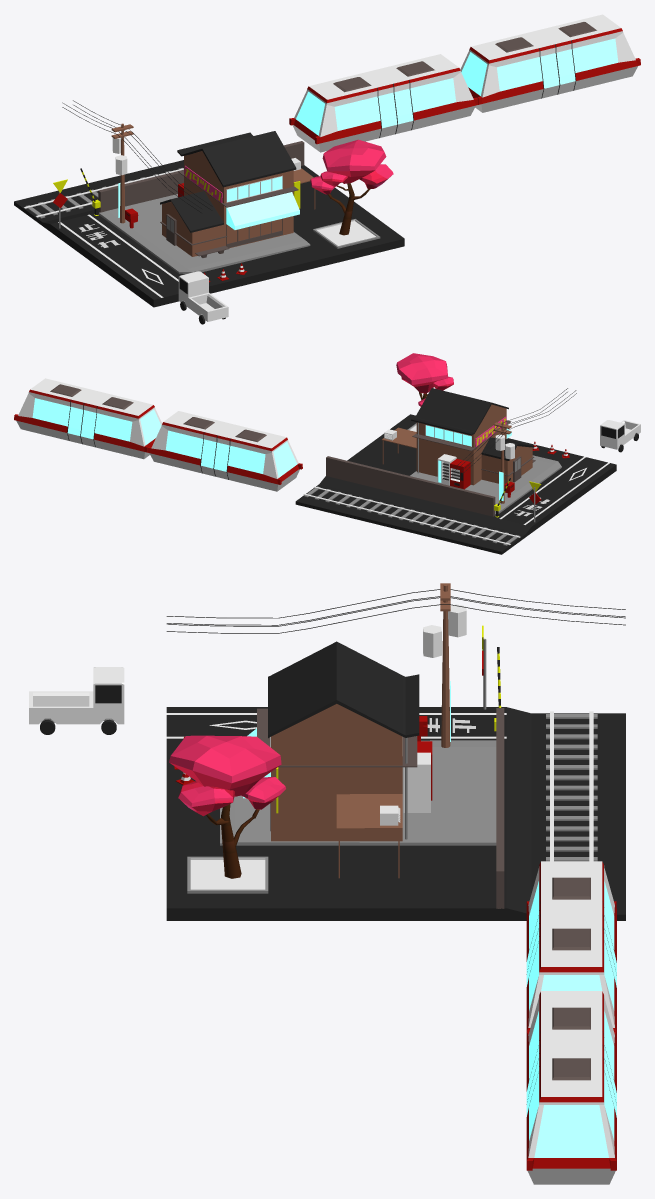
File: paysage.gltf
The picture shows the model from 3 angles, top to bottom: view 1: azimuth 30°, elevation 25°; view 2: azimuth 150°, elevation 25°; view 3: azimuth 270°, elevation 25°; orthographic projection. The views are drawn at different scales.
Parts seen in each view (by area): view 1: wagon, road, house, trottoir.001, fleats, wall, car, earth, cable, roadstrip, three, rebord.002 (+2 smaller); view 2: wagon, road, house, wall, trottoir.001, fleats, repeatRails, car, rails, machineBoisson2, cable, roadstrip (+3 smaller); view 3: road, wagon, house, trottoir.001, fleats, car, repeatRails, earth, cable, wall, machineBoisson1, rails (+4 smaller).
Boxes of the visible parts, left/top/right/bottom form: wagon: left=289, top=14, right=640, bottom=152; road: left=14, top=160, right=404, bottom=307; house: left=160, top=131, right=315, bottom=256; trottoir.001: left=99, top=194, right=310, bottom=273; fleats: left=310, top=139, right=393, bottom=194; wall: left=98, top=141, right=304, bottom=213; car: left=178, top=271, right=228, bottom=321; earth: left=313, top=219, right=380, bottom=248; cable: left=62, top=100, right=212, bottom=213; roadstrip: left=58, top=214, right=178, bottom=297; three: left=328, top=183, right=370, bottom=235; rebord.002: left=178, top=170, right=298, bottom=207; wagon: left=14, top=378, right=302, bottom=491; road: left=295, top=414, right=616, bottom=554; house: left=381, top=388, right=534, bottom=485; wall: left=326, top=456, right=495, bottom=516; trottoir.001: left=410, top=455, right=561, bottom=515; fleats: left=396, top=353, right=453, bottom=406; repeatRails: left=304, top=486, right=519, bottom=545; car: left=600, top=420, right=640, bottom=449; rails: left=303, top=486, right=520, bottom=545; machineBoisson2: left=450, top=458, right=470, bottom=489; cable: left=453, top=388, right=576, bottom=473; roadstrip: left=499, top=456, right=609, bottom=524; road: left=166, top=707, right=625, bottom=920; wagon: left=526, top=861, right=616, bottom=1184; house: left=243, top=641, right=419, bottom=878; trottoir.001: left=220, top=740, right=496, bottom=845; fleats: left=169, top=735, right=285, bottom=816; car: left=29, top=667, right=124, bottom=724; repeatRails: left=546, top=714, right=597, bottom=861; earth: left=187, top=856, right=268, bottom=893; cable: left=166, top=589, right=625, bottom=633; wall: left=496, top=708, right=504, bottom=908; machineBoisson1: left=403, top=752, right=430, bottom=812; rails: left=550, top=711, right=593, bottom=861.
Size of the model in its own units: 40.95 by 7.04 by 21.43.
